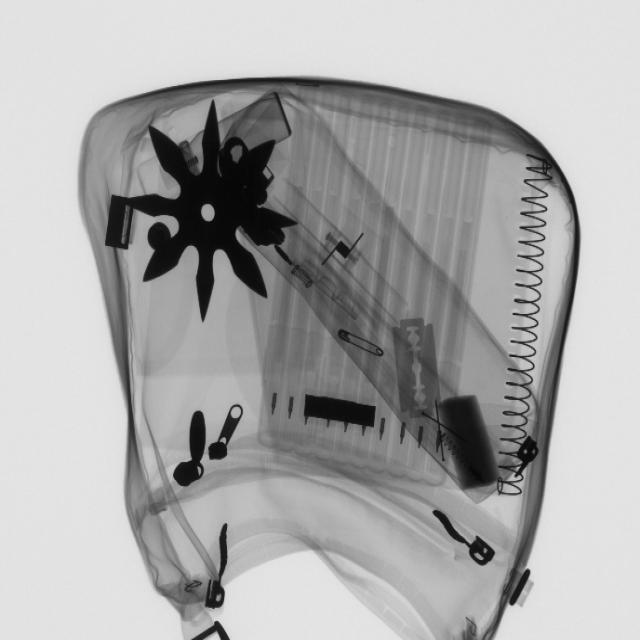BLADE: (389, 311, 447, 432)
SHURIKEN: (125, 99, 290, 325)
